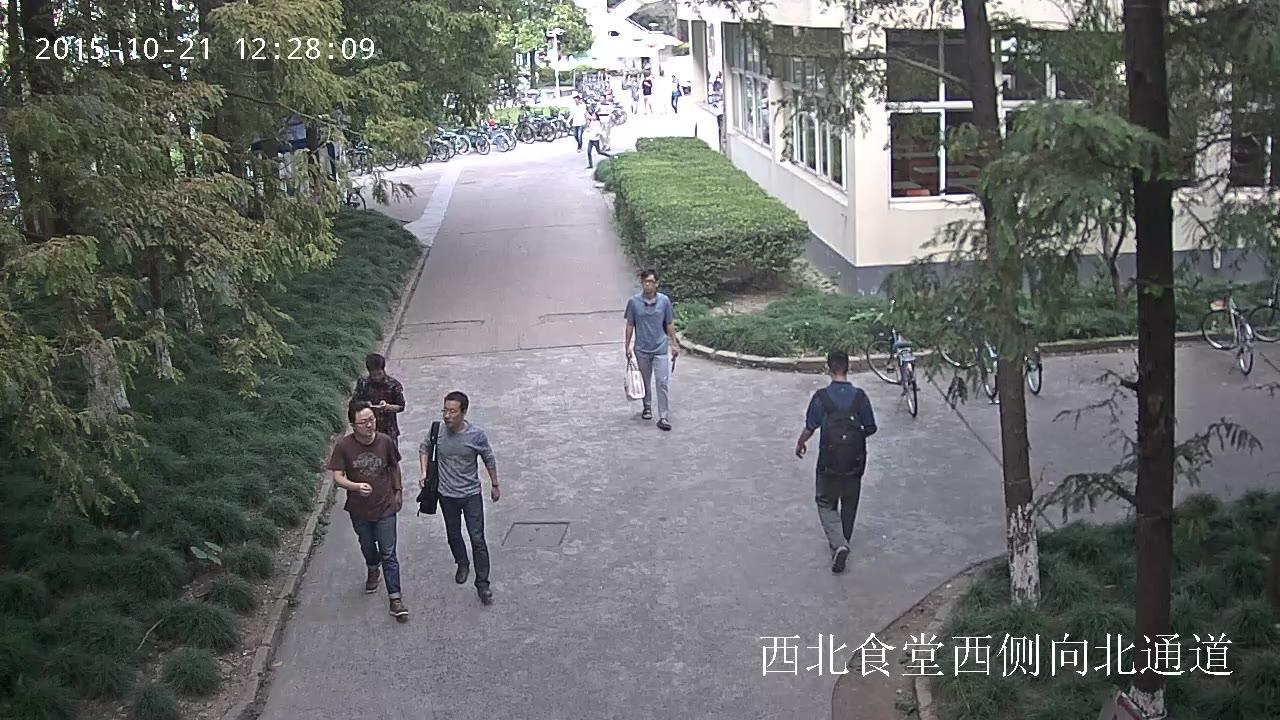person: (796, 348, 876, 573), (416, 391, 500, 594), (329, 402, 407, 614), (623, 269, 679, 430), (347, 355, 404, 460), (584, 112, 610, 169), (568, 96, 594, 152), (640, 74, 654, 113), (667, 75, 679, 113)
